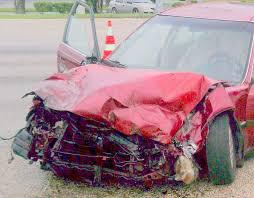bonnet-dent: (54, 60, 190, 134)
